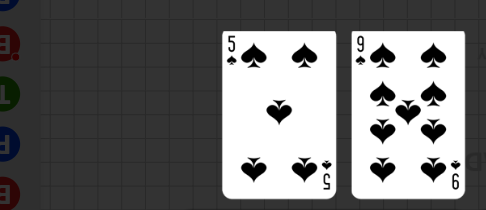5S: (226, 34, 239, 67)
9S: (449, 157, 462, 191)
